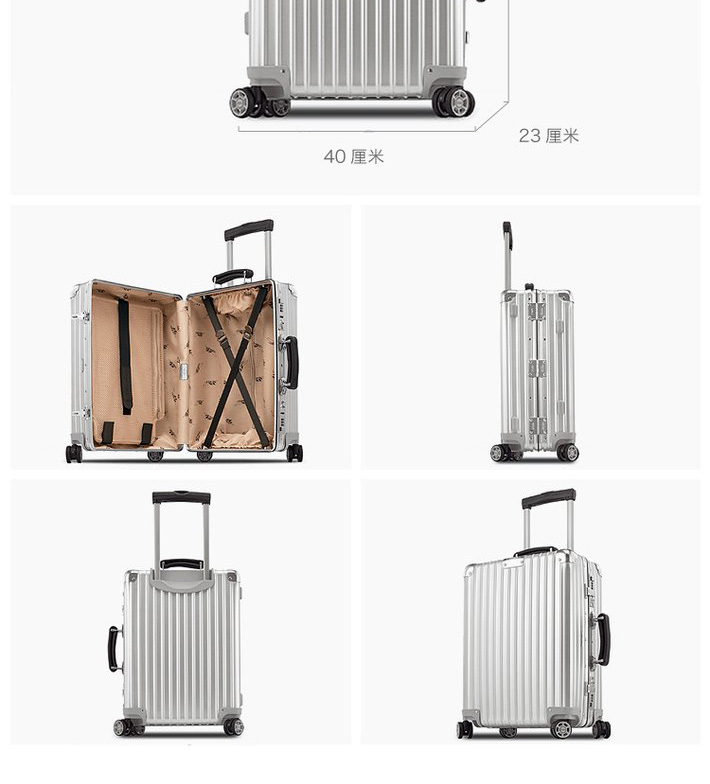suitcase: (454, 490, 613, 739), (112, 490, 245, 739), (490, 221, 581, 464)
